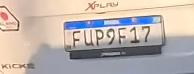Placa_mercosul_carro: (63, 15, 164, 52)
